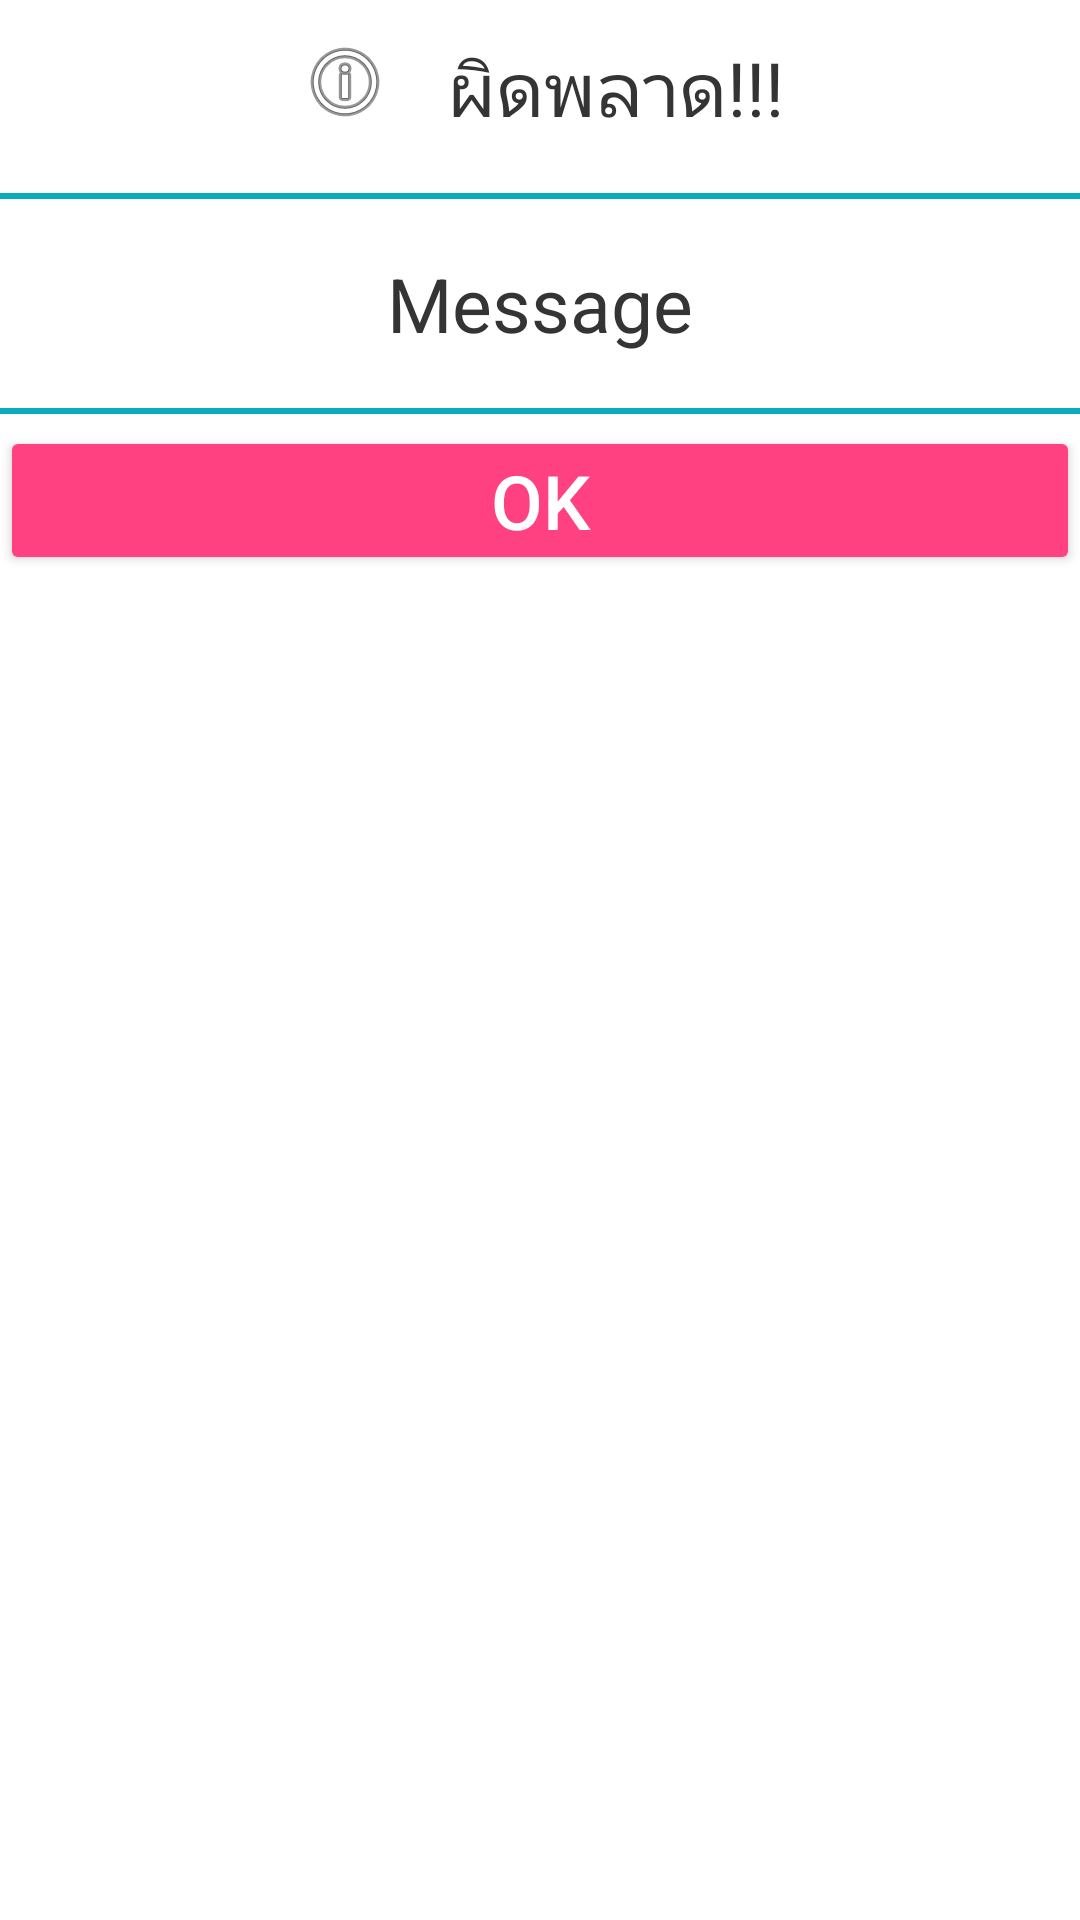

Icon bounding boxes for this 1080x1920 phone screenshot, format (x1, y1, x2, y2):
info details: (310, 47, 380, 117)
